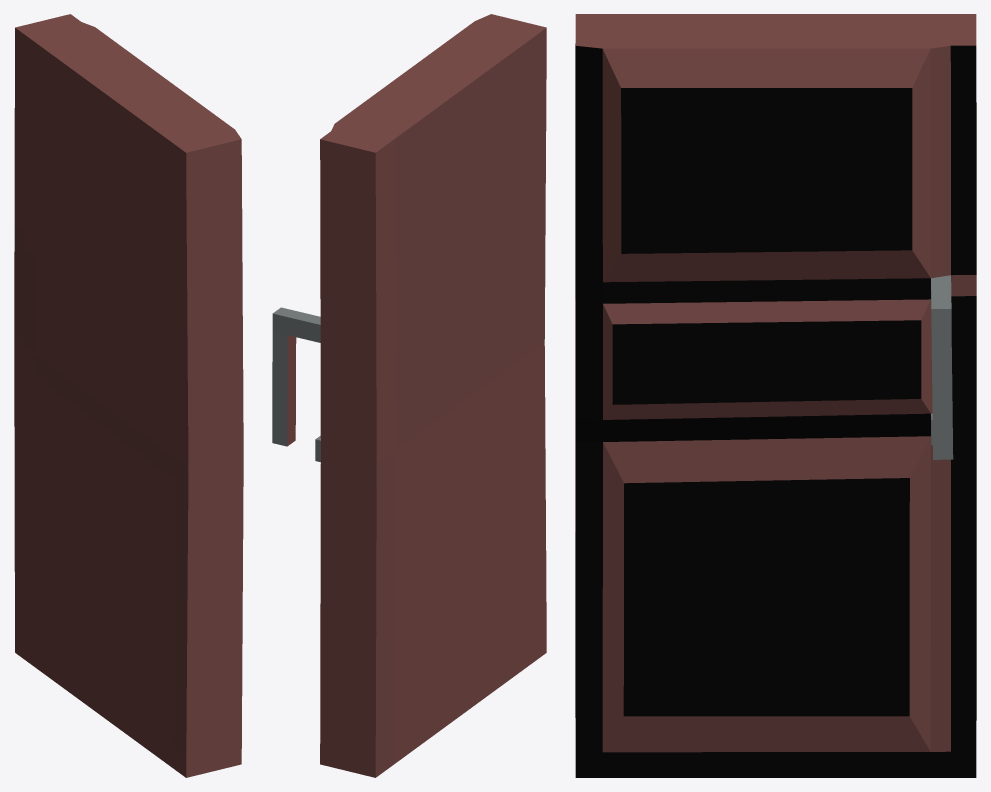
Rendered from Door.fbx.
3 views of the same model, side by side, from view 1: azimuth 30°, elevation 25°; view 2: azimuth 150°, elevation 25°; view 3: azimuth 270°, elevation 25° (orthographic). The views are drawn at different scales.
Parts seen in each view (by area): view 1: Door; view 2: Door; view 3: Door.
Boxes of the visible parts, <box> form: Door: <box>14,14,243,777</box>; Door: <box>272,14,546,777</box>; Door: <box>575,14,976,777</box>.
Size of the model in its own units: 230 by 1198 by 595.
